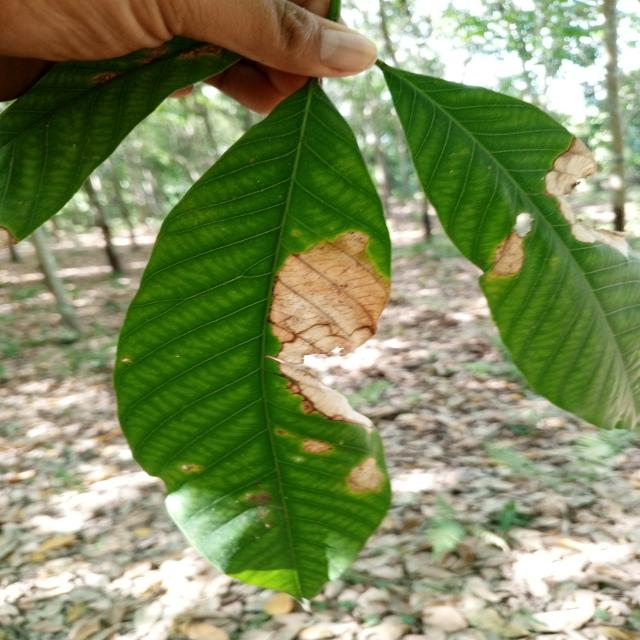Leaf-Blight: (268, 231, 390, 364), (278, 362, 373, 427), (556, 199, 629, 256), (544, 136, 597, 198), (489, 229, 525, 276), (346, 458, 384, 493), (301, 438, 331, 453)
